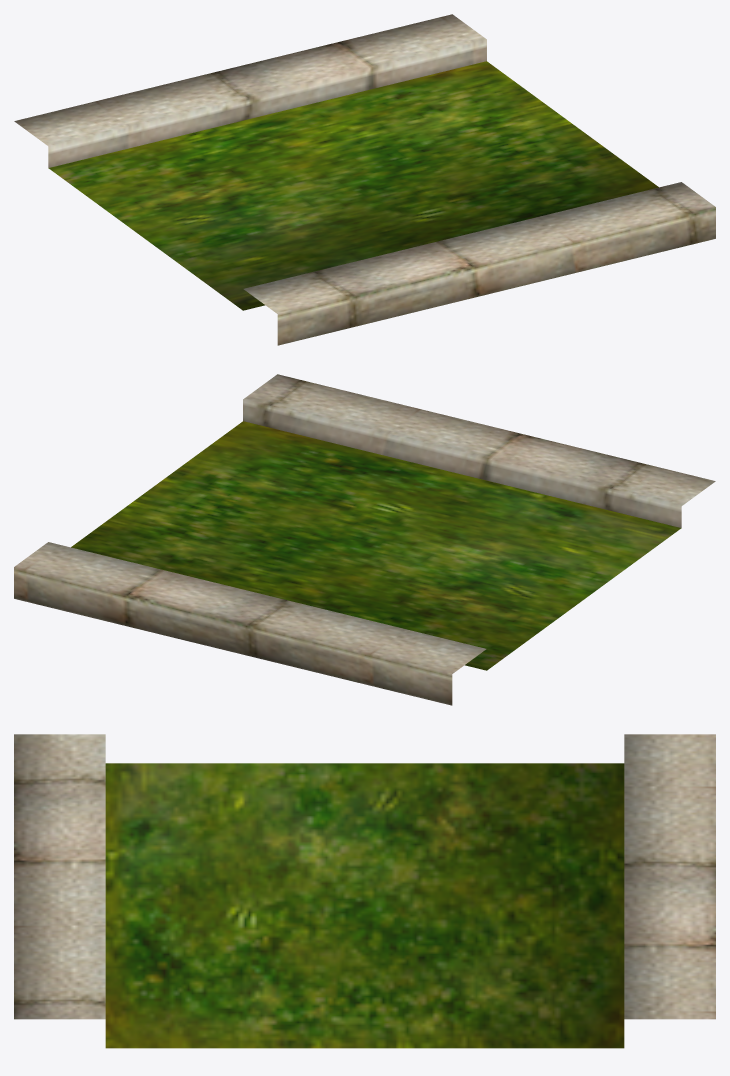
The model's file is a_flowerbed02.glb.
3 views of the same model, one above another, from view 1: azimuth 30°, elevation 25°; view 2: azimuth 150°, elevation 25°; view 3: azimuth 270°, elevation 25° (orthographic). The views are drawn at different scales.
Parts seen in each view (by area): view 1: a_flowerbed02; view 2: a_flowerbed02; view 3: a_flowerbed02.
Part boxes in pixels (box(x1,y1,x2,y2)): a_flowerbed02: box(14, 14, 715, 345); a_flowerbed02: box(14, 374, 715, 705); a_flowerbed02: box(14, 734, 715, 1048).
Size of the model in its own units: 2 by 0.138 by 2.08.
Materials: 1 (1 with a texture image).
